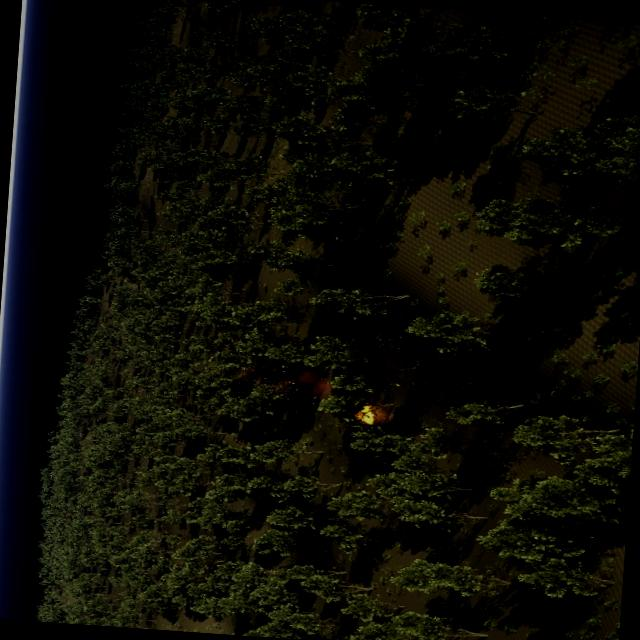fire: (356, 402, 379, 422)
smoke: (233, 359, 334, 397)
